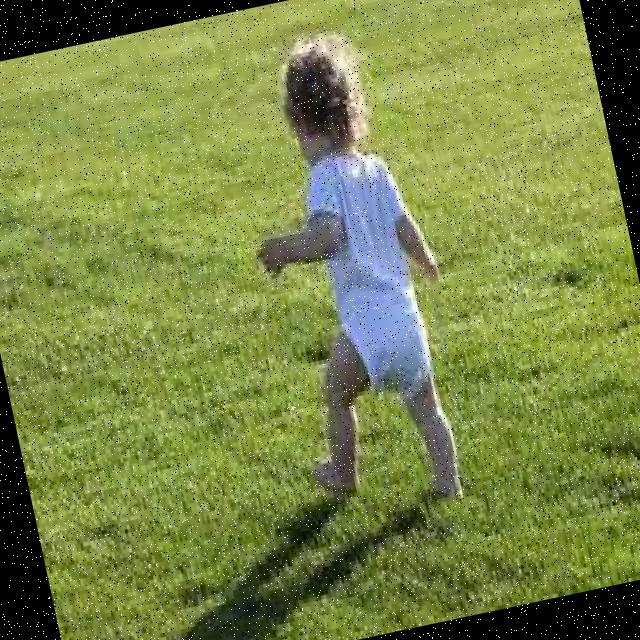Person: (215, 21, 480, 521)
